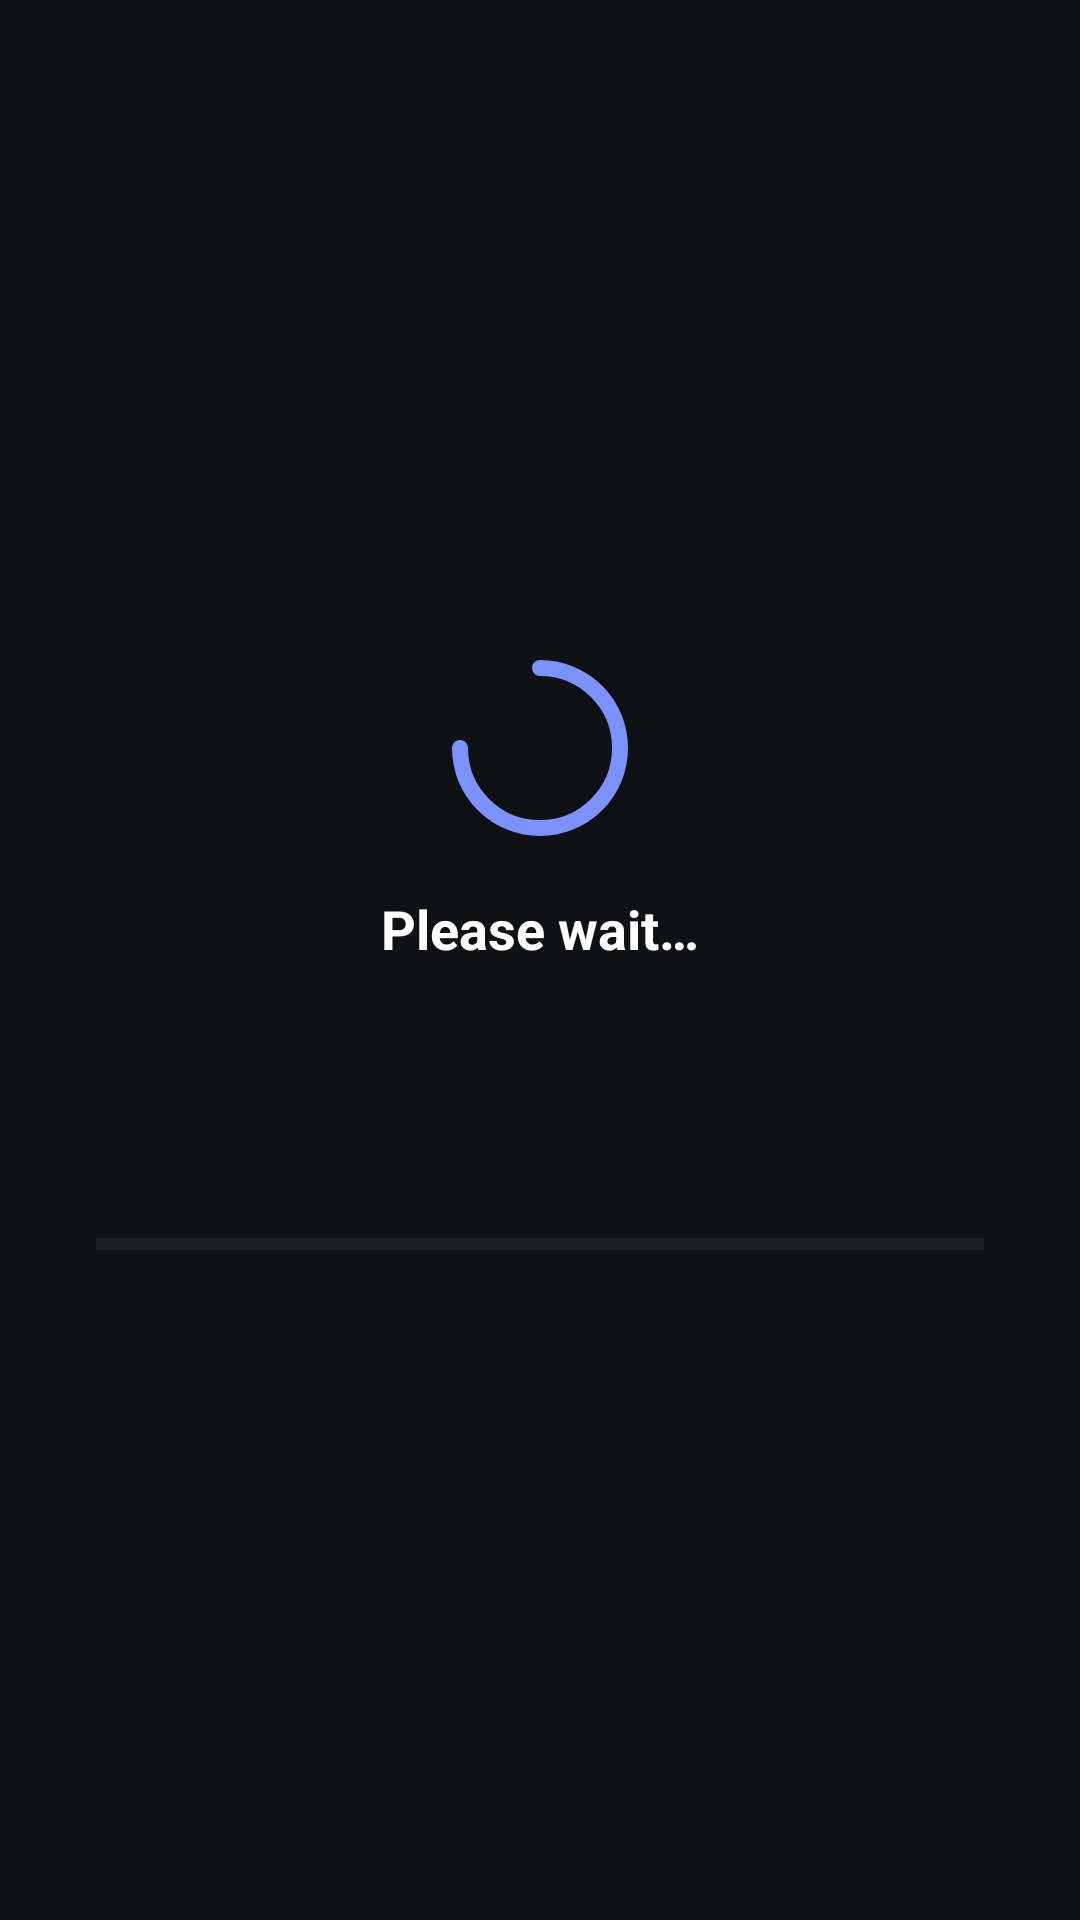

Where icons sit on this 1080px x 1920px app screen, as [x1=x1, y1=y1, x2=x2, y2=y2]:
qa loading spinner animated: [x1=452, y1=660, x2=628, y2=836]
